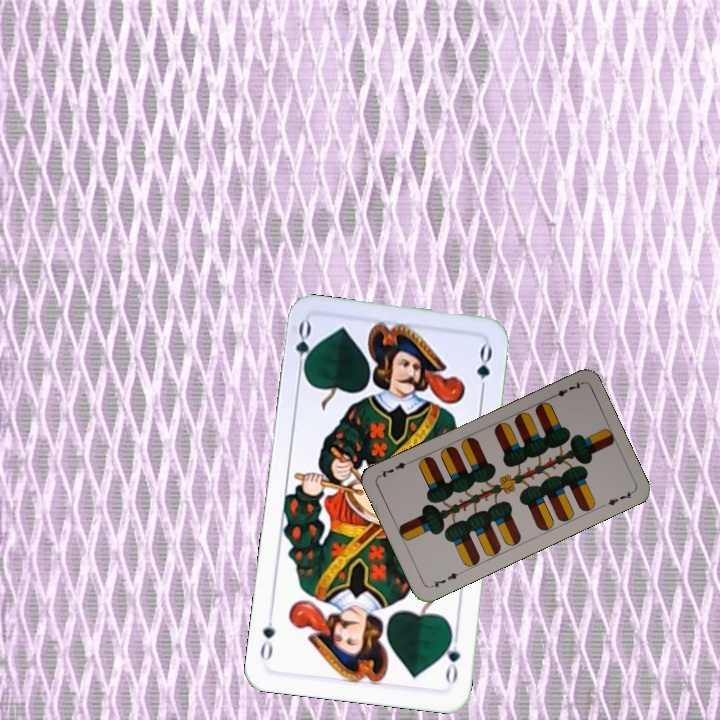E7: (546, 378, 584, 402), (426, 568, 464, 591)
GO: (291, 318, 317, 378), (440, 628, 463, 687)
